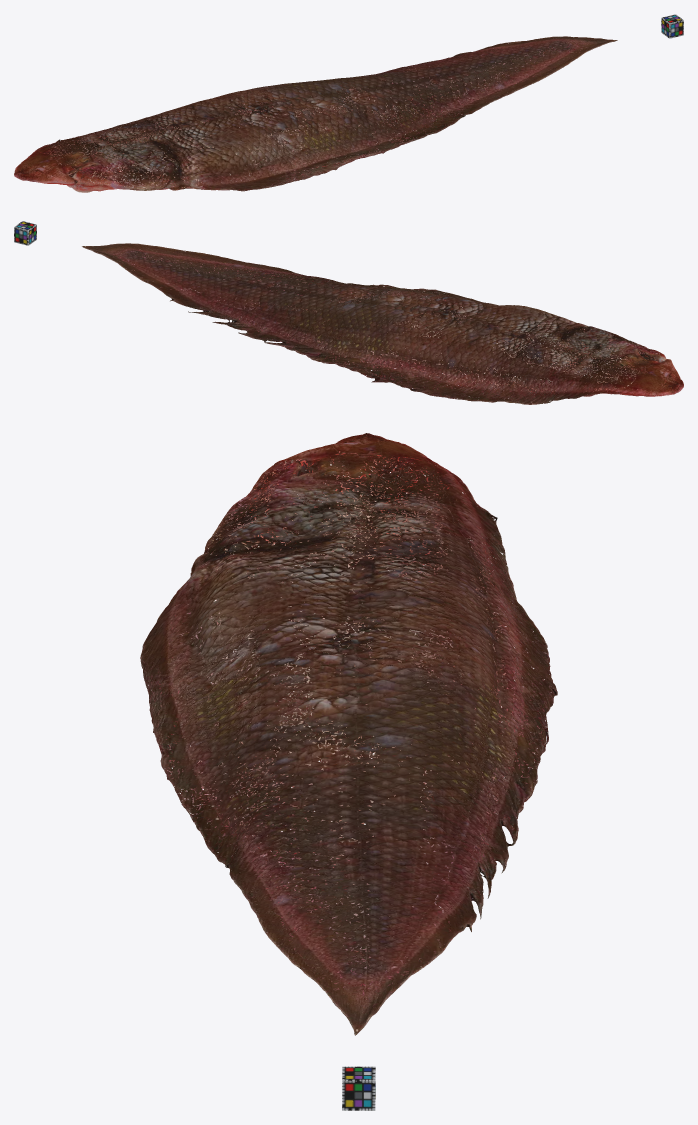
File: scan_sole_redtongue.glb
3 views of the same model, one above another, from view 1: azimuth 30°, elevation 25°; view 2: azimuth 150°, elevation 25°; view 3: azimuth 270°, elevation 25° (orthographic). The views are drawn at different scales.
Parts seen in each view (by area): view 1: Object_6, Object_12, Object_4; view 2: Object_6, Object_12, Object_4; view 3: Object_6, Object_12, Object_4.
Boxes of the visible parts, bbox=[...] form: Object_6: bbox=[14, 36, 617, 192]; Object_12: bbox=[14, 36, 612, 192]; Object_4: bbox=[661, 14, 683, 38]; Object_6: bbox=[82, 243, 680, 404]; Object_12: bbox=[83, 243, 683, 404]; Object_4: bbox=[14, 221, 36, 245]; Object_6: bbox=[140, 453, 557, 1035]; Object_12: bbox=[140, 433, 557, 1031]; Object_4: bbox=[342, 1066, 375, 1110].
Size of the model in its own units: 20.55 by 1.2 by 5.62.
Materials: 3 (3 with a texture image).
